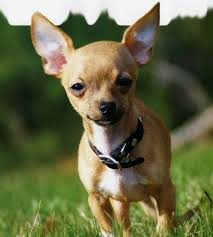chihuahua: (25, 5, 191, 237)
